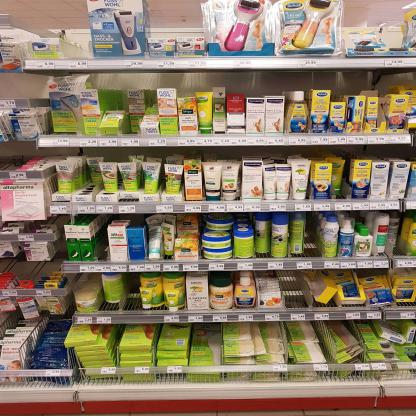Void: (226, 72, 394, 89), (151, 0, 201, 38), (281, 269, 306, 312), (62, 35, 92, 56), (124, 275, 140, 309), (307, 218, 318, 256), (87, 178, 93, 196)
